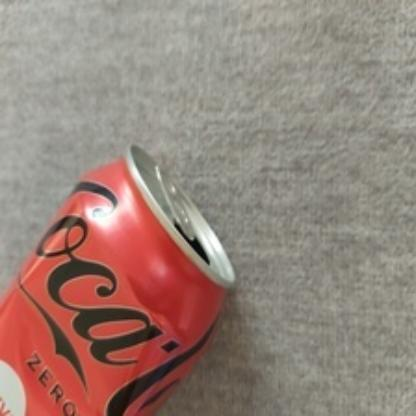Can: (0, 144, 239, 416)
